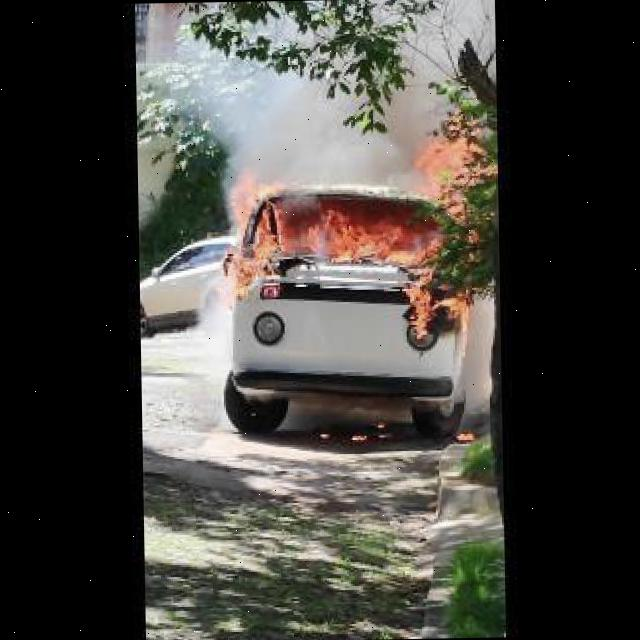fire: (228, 164, 442, 298), (414, 117, 496, 204), (406, 276, 472, 342), (456, 432, 474, 439), (350, 436, 366, 440)
